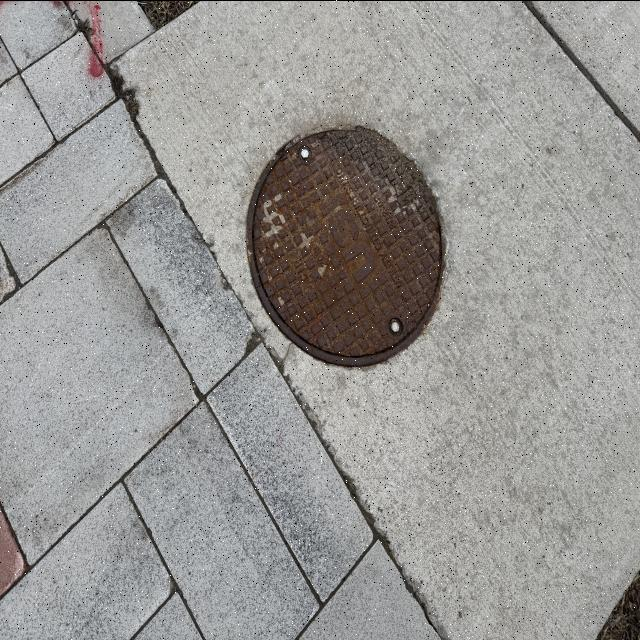Manhole: (250, 117, 446, 375)
